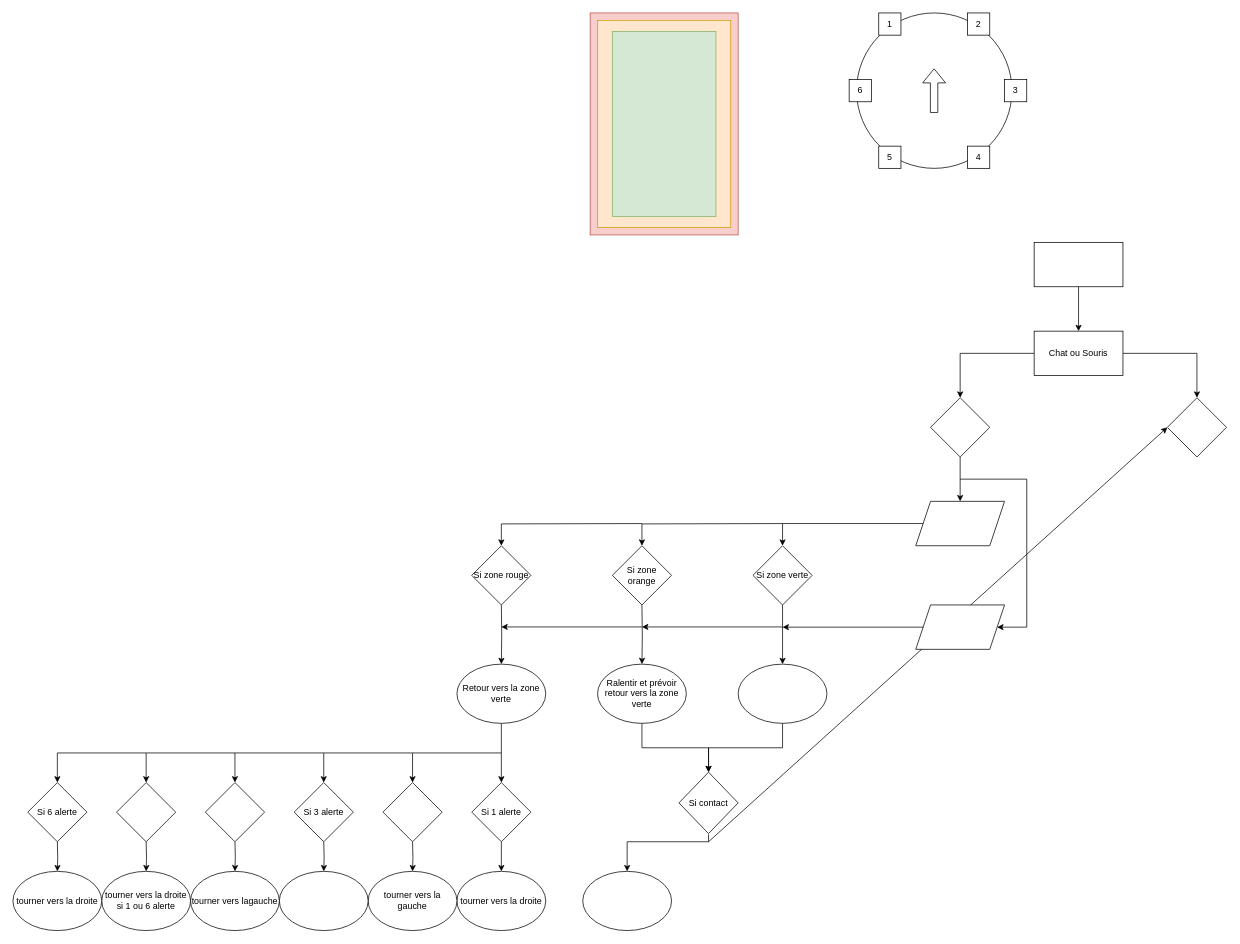
Image size: 1240x944. Some labels were removed from this diagram. Here are the shapes that lost their labels. From the top down, the centre of each, then its label:
At [1078,264]: "Allumage".
At [960,427]: "Si Chat".
At [1197,427]: "Si Souris".
At [960,523]: "Position ?".
At [960,626]: "Position du chat ?".
At [782,693]: "Accélérer".
At [146,812]: "Si 5 alerte".
At [235,812]: "Si 4 alerte".
At [412,812]: "Si 2 alerte".
At [323,901]: "tourner vers la gauche si 2 ou 4 alerte".
At [627,901]: "collision en tant que chat += 1".
